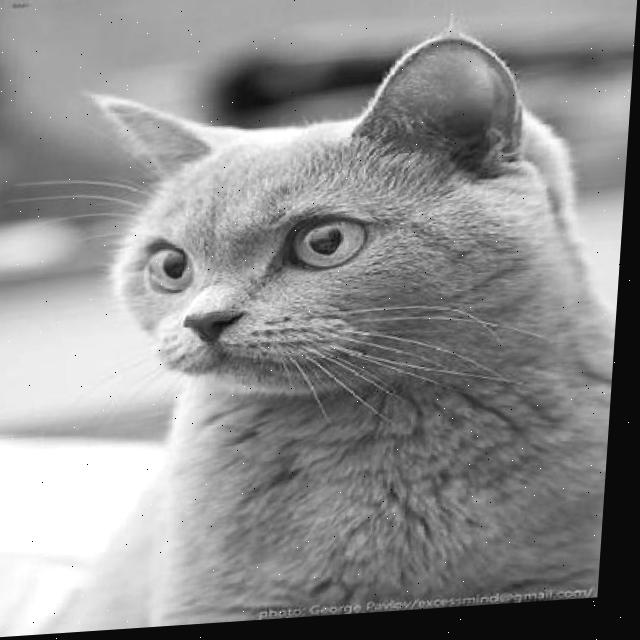Cat: (53, 20, 634, 633)
